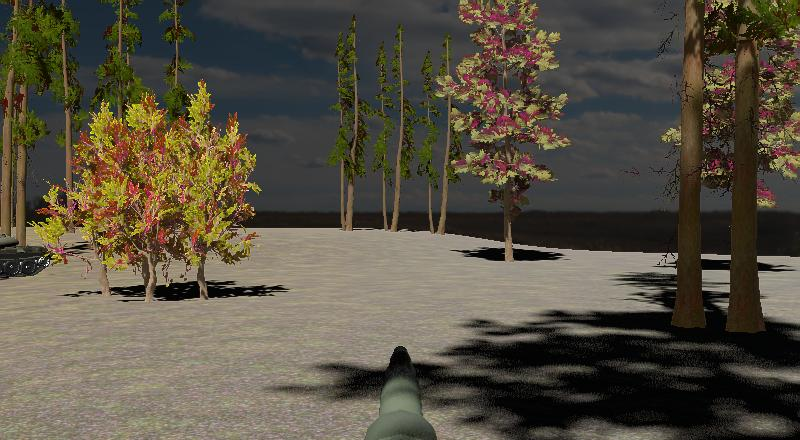Tank: (0, 229, 53, 283)
